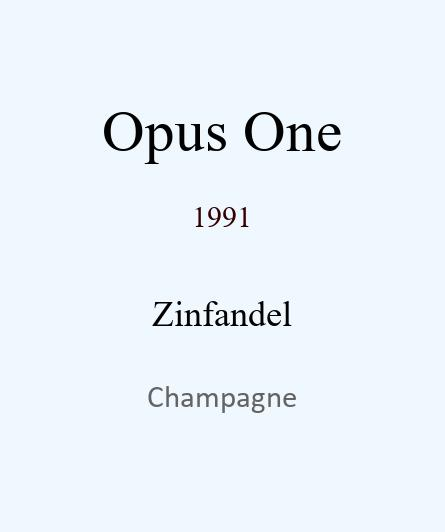brand: (102, 98, 342, 150)
region: (147, 383, 297, 410)
variety: (152, 293, 292, 318)
vintage: (192, 200, 252, 220)
